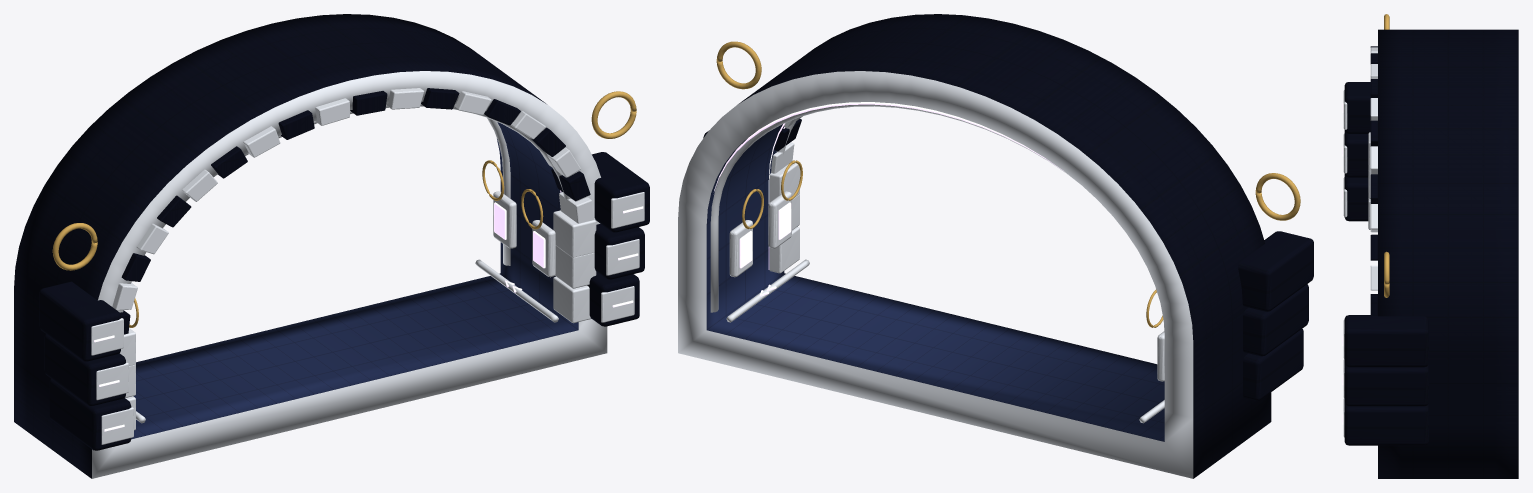
The model's file is portal_entry.glb.
3 views of the same model, side by side, from view 1: azimuth 30°, elevation 25°; view 2: azimuth 150°, elevation 25°; view 3: azimuth 270°, elevation 25° (orthographic). The views are drawn at different scales.
Parts seen in each view (by area): view 1: TunnelGeometry; view 2: TunnelGeometry; view 3: TunnelGeometry.
Boxes of the visible parts, x1,y1,x2,y2 form: TunnelGeometry: [14, 14, 649, 478]; TunnelGeometry: [678, 14, 1313, 478]; TunnelGeometry: [1342, 14, 1518, 478].
Bounding box in the file's own units: 17.32 × 9.52 × 5.01.
5 materials, 2 textured.
